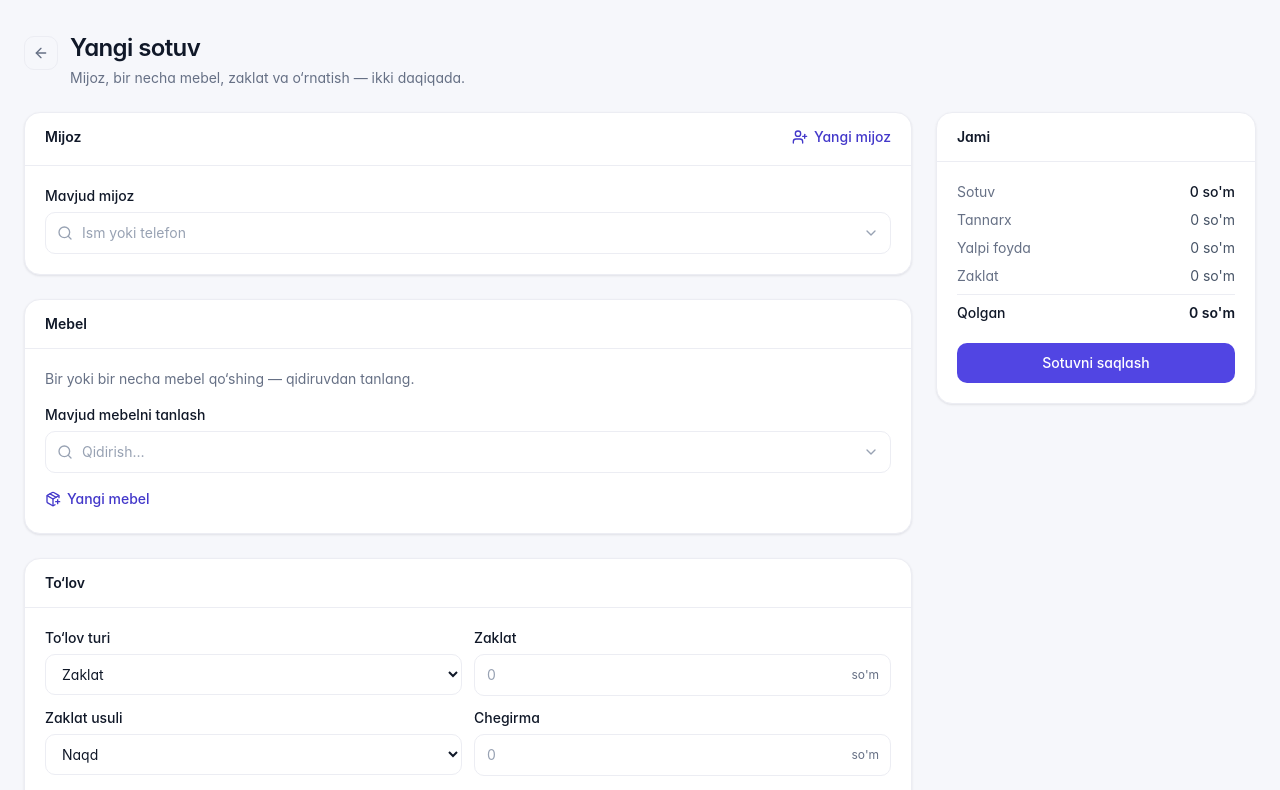
Scenario: NewSalePage › requires customer and product before submit
Click the button "Sotuvni saqlash": coordinates (1096, 363) x1=957 y1=343 x2=1235 y2=383
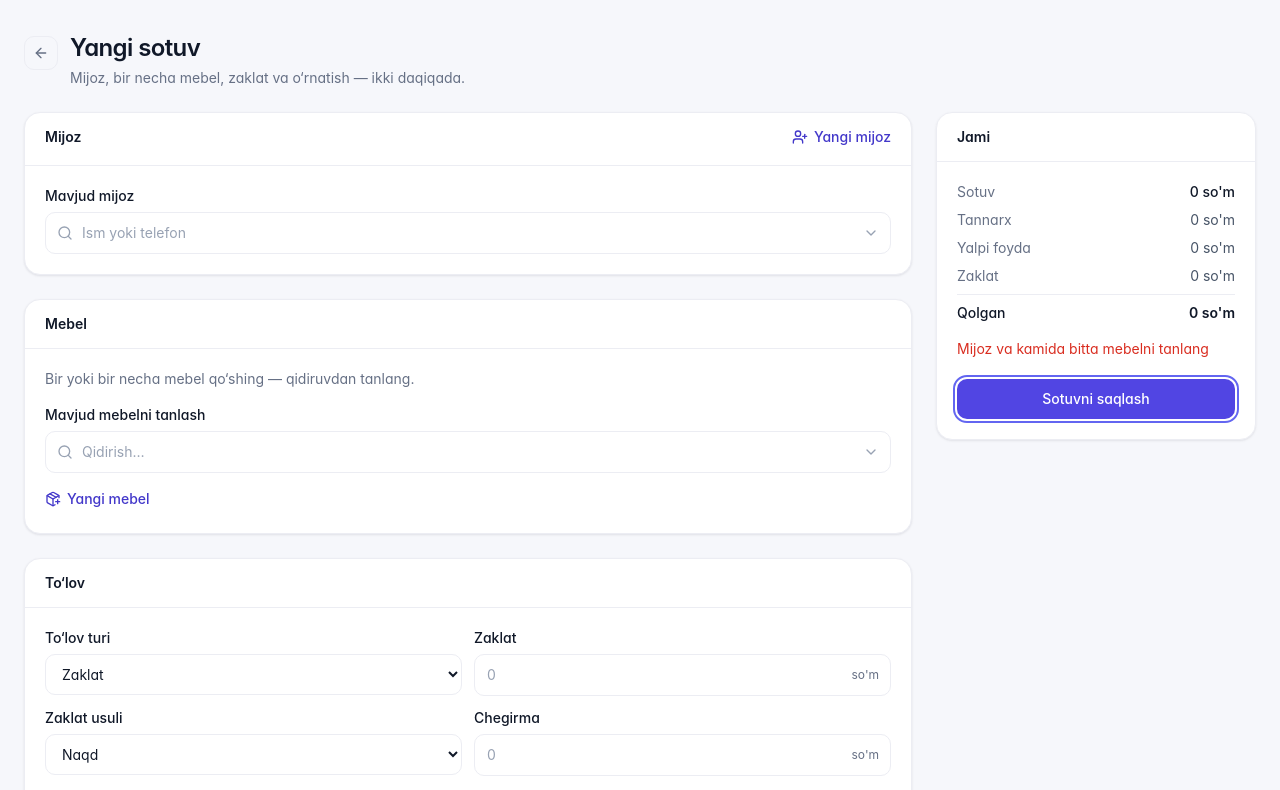
Now the text "Mijoz va kamida bitta mebelni tanlang" is shown, box x1=957 y1=339 x2=1235 y2=359
